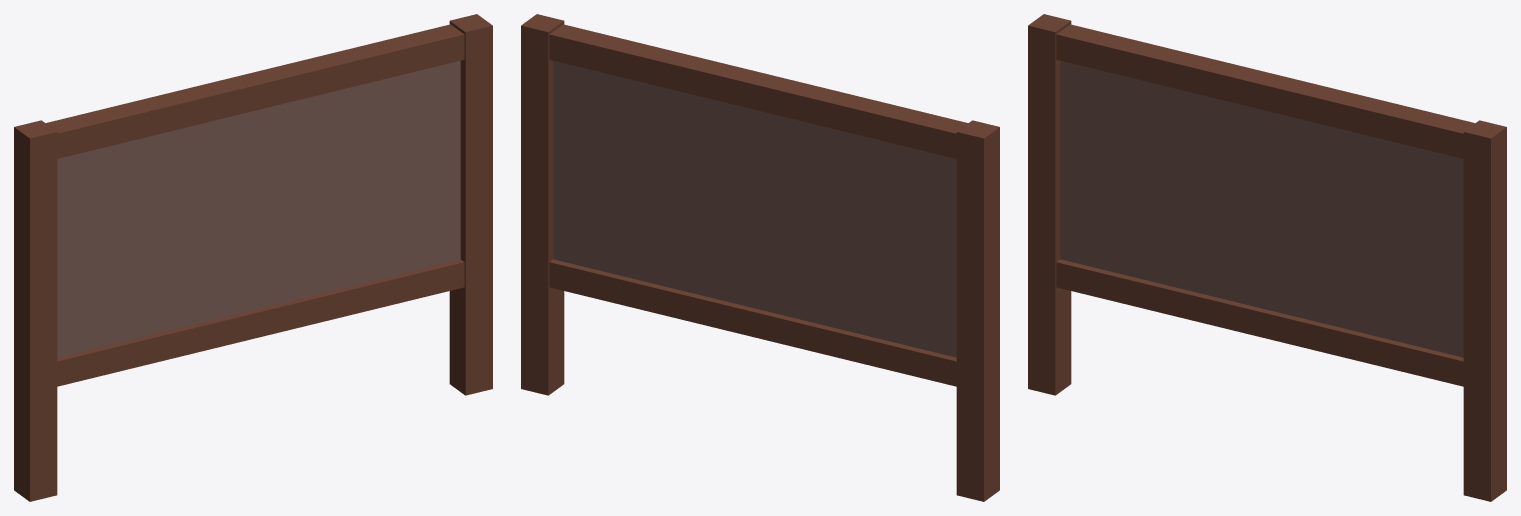
The model's file is quest_board.fbx.
3 renders of one model, left to right at view 1: azimuth 30°, elevation 25°; view 2: azimuth 150°, elevation 25°; view 3: azimuth 330°, elevation 25°, orthographic.
Parts seen in each view (by area): view 1: QuestBoard; view 2: QuestBoard; view 3: QuestBoard.
Boxes of the visible parts, bbox=[...] form: QuestBoard: bbox=[14, 14, 492, 501]; QuestBoard: bbox=[521, 14, 999, 501]; QuestBoard: bbox=[1028, 14, 1506, 501].
Bounding box in the file's own units: 425 × 319 × 25.2.
